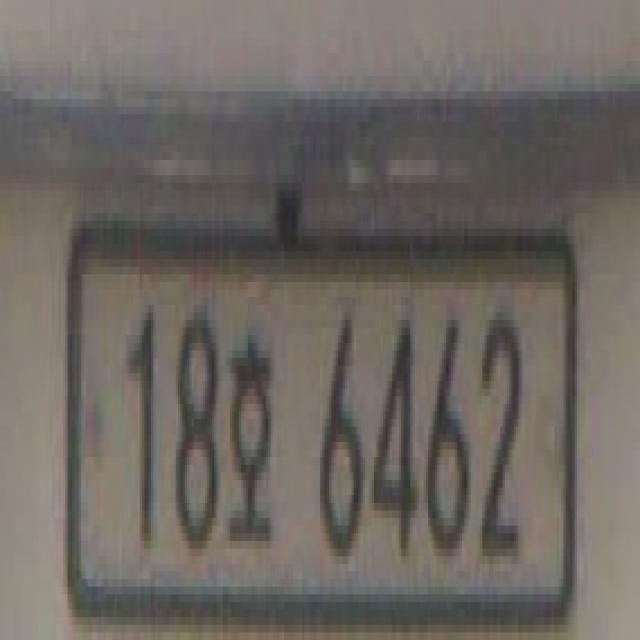1: (122, 282, 162, 571)
2: (475, 305, 532, 571)
4: (369, 305, 424, 571)
6: (424, 290, 473, 579), (316, 305, 365, 571)
8: (169, 282, 219, 571)
ho: (223, 328, 277, 572)
license_plate: (58, 205, 576, 640)
